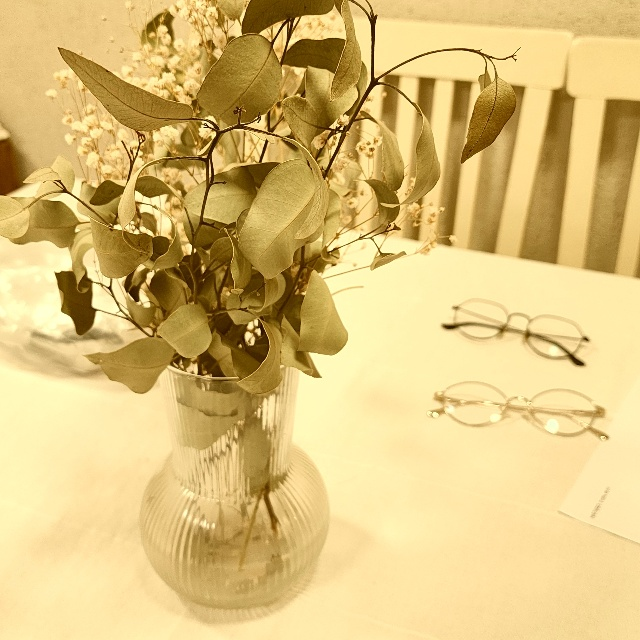glasses: (428, 375, 615, 443), (437, 291, 591, 371)
